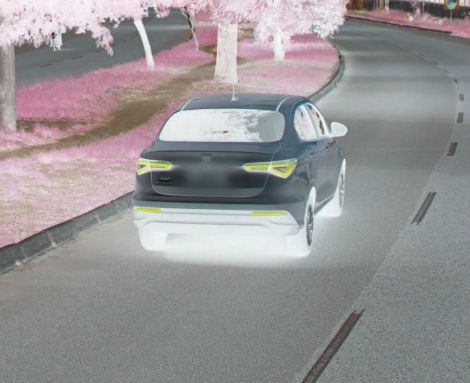car: (128, 78, 357, 266)
